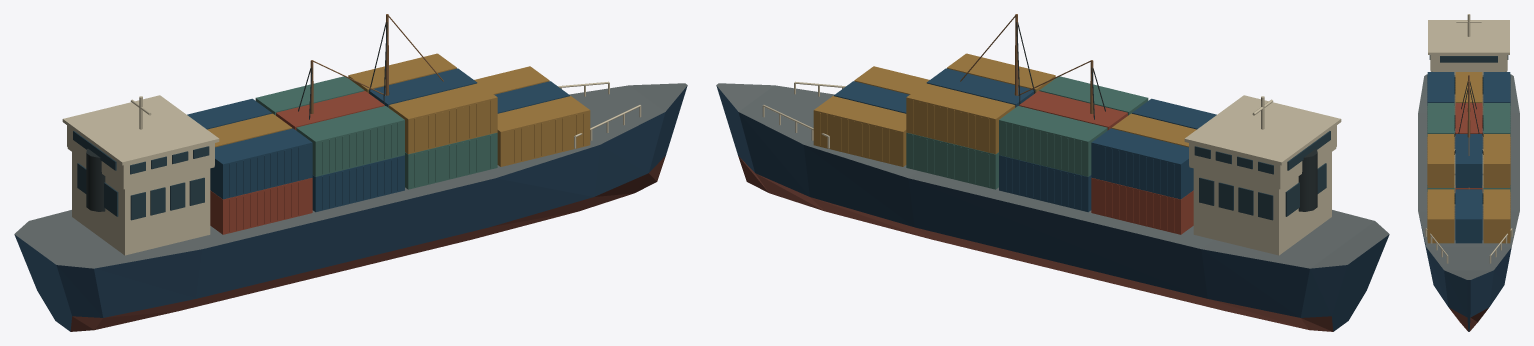
The model's file is harbor-fleet.glb.
3 renders of one model, left to right at view 1: azimuth 30°, elevation 25°; view 2: azimuth 150°, elevation 25°; view 3: azimuth 270°, elevation 25°, orthographic. The views are drawn at different scales.
Visible parts, largest first — view 1: Freighter, Schooner; view 2: Freighter, Schooner; view 3: Freighter, Schooner, Trawler.
Part boxes in pixels (bbox=[...]): Freighter: bbox=[14, 53, 687, 331]; Schooner: bbox=[298, 14, 443, 119]; Freighter: bbox=[716, 53, 1389, 331]; Schooner: bbox=[960, 14, 1105, 119]; Freighter: bbox=[1418, 14, 1519, 331]; Schooner: bbox=[1454, 75, 1483, 188]; Trawler: bbox=[1454, 115, 1483, 205].
Size of the model in its own units: 32 by 10.94 by 6.3.
